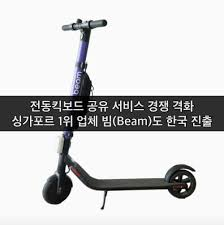kick_body: (91, 178, 164, 190)
kick_handler: (63, 19, 107, 38)
kick_wheel: (166, 164, 197, 198), (43, 174, 72, 205)
